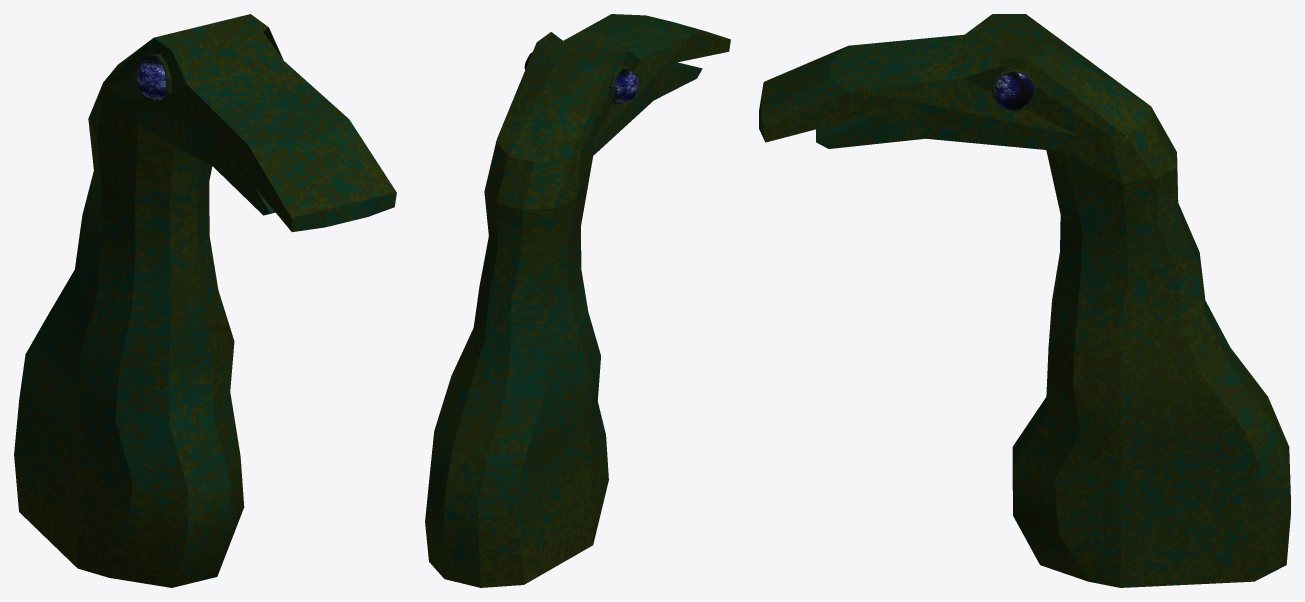
Rendered from Lagarto 2.obj.
The picture shows the model from 3 angles, left to right: view 1: azimuth 30°, elevation 25°; view 2: azimuth 150°, elevation 25°; view 3: azimuth 270°, elevation 25°; orthographic projection. The views are drawn at different scales.
Parts seen in each view (by area): view 1: polySurface42; view 2: polySurface42; view 3: polySurface42.
Boxes of the visible parts, x1,y1,x2,y2 form: polySurface42: [14, 14, 396, 587]; polySurface42: [425, 14, 730, 587]; polySurface42: [759, 14, 1290, 587].
Bounding box in the file's own units: 1.4 × 5.13 × 4.76.
2 materials, 2 textured.
